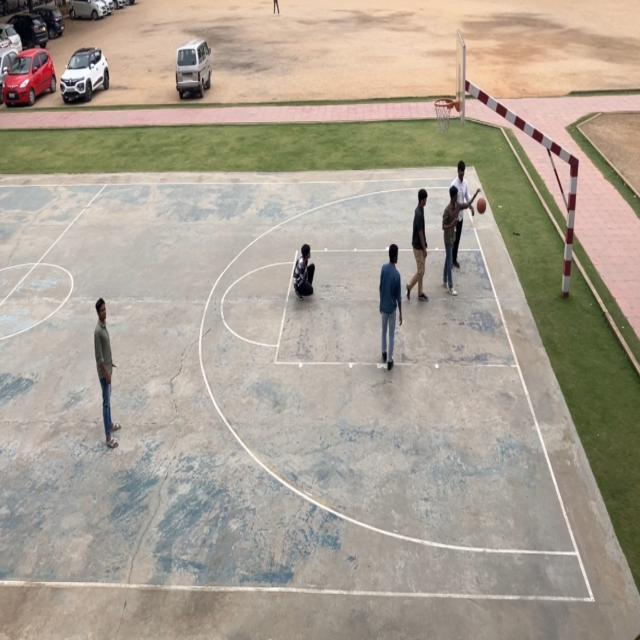basketball: (477, 195, 485, 213)
hoop: (433, 98, 454, 134)
